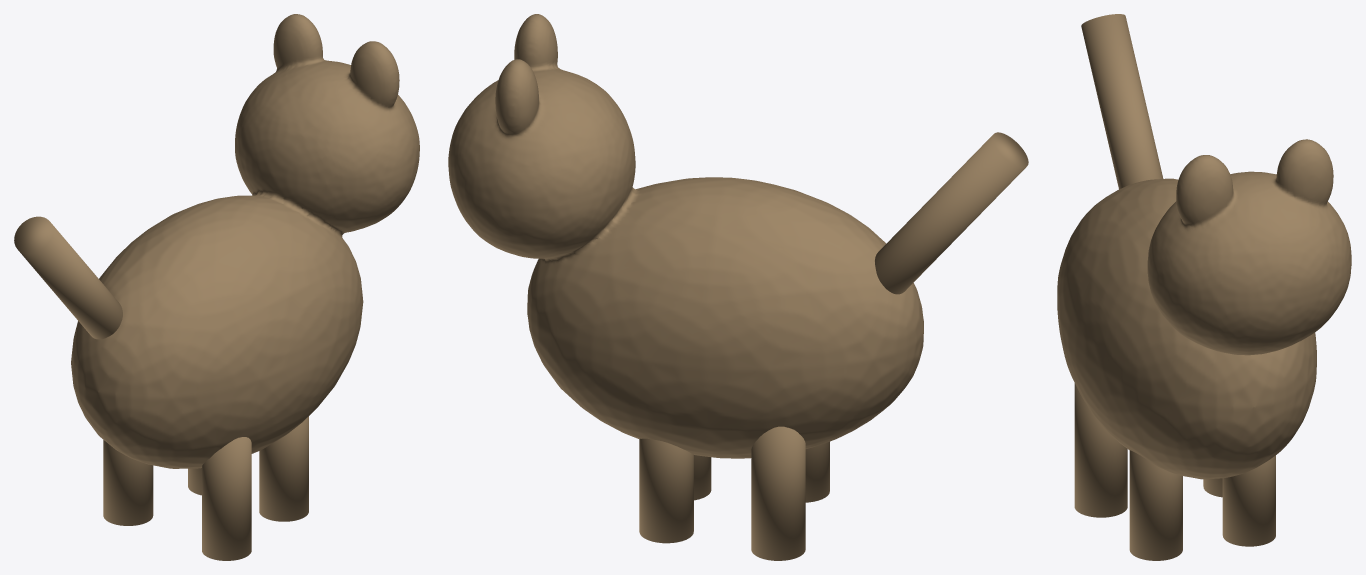
File: Cat.glb
3 views of the same model, side by side, from view 1: azimuth 30°, elevation 25°; view 2: azimuth 150°, elevation 25°; view 3: azimuth 270°, elevation 25° (orthographic). The views are drawn at different scales.
Parts seen in each view (by area): view 1: CatBody, CatTail, CatLeg3, CatLeg1, CatLeg4; view 2: CatBody, CatTail, CatLeg4, CatLeg2, CatLeg3, CatLeg1; view 3: CatBody, CatTail, CatLeg1, CatLeg3, CatLeg2.
Boxes of the visible parts, <box> form: CatBody: <box>71,14,419,468</box>; CatTail: <box>14,216,122,339</box>; CatLeg3: <box>202,437,251,560</box>; CatLeg1: <box>259,416,308,521</box>; CatLeg4: <box>103,440,153,525</box>; CatBody: <box>448,14,923,458</box>; CatTail: <box>875,132,1028,294</box>; CatLeg4: <box>751,426,805,560</box>; CatLeg2: <box>639,438,693,543</box>; CatLeg3: <box>805,441,829,502</box>; CatLeg1: <box>694,455,711,500</box>; CatBody: <box>1057,139,1351,479</box>; CatTail: <box>1081,14,1163,189</box>; CatLeg1: <box>1129,450,1182,560</box>; CatLeg3: <box>1074,383,1127,517</box>; CatLeg2: <box>1222,455,1275,546</box>.
Size of the model in its own units: 0.7311 by 0.6554 by 0.3865.
